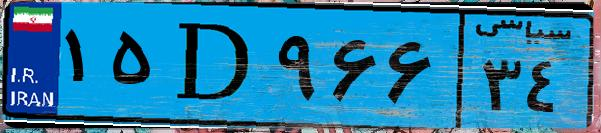1: (57, 26, 110, 100)
3: (475, 38, 525, 113)
4: (525, 38, 570, 115)
5: (110, 28, 158, 98)
6: (385, 28, 445, 110), (330, 28, 385, 110)
9: (270, 28, 330, 110)
D: (158, 12, 270, 120)
